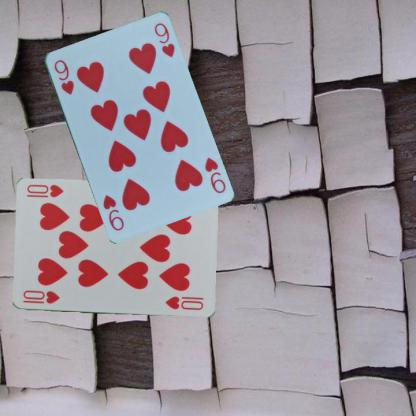10h: (20, 288, 61, 306)
9h: (201, 154, 226, 195), (51, 57, 75, 96)
